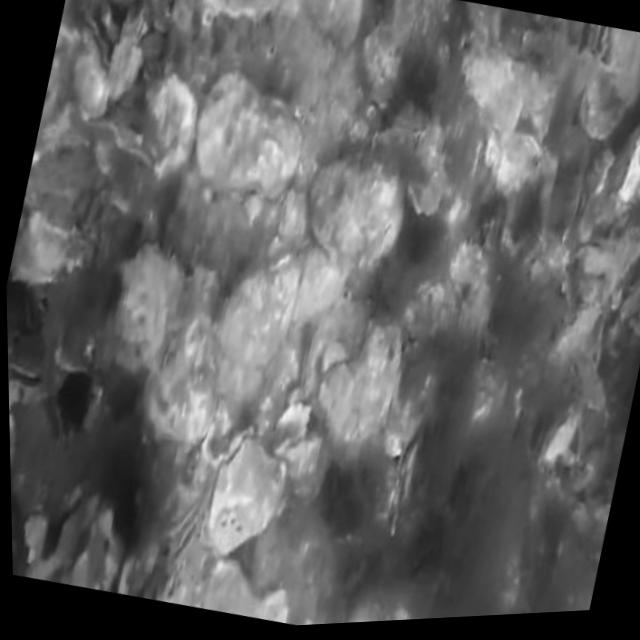Oyster-Closed: (196, 74, 303, 202), (205, 433, 284, 554), (279, 431, 321, 501), (546, 177, 586, 242), (71, 53, 107, 119), (390, 441, 415, 536), (540, 405, 578, 465), (169, 509, 202, 571), (80, 14, 111, 76), (571, 239, 617, 279), (405, 171, 440, 215), (390, 98, 426, 138), (619, 277, 640, 318), (51, 401, 64, 458), (124, 12, 147, 40), (571, 503, 591, 535)
Oyster-Indeterminate: (308, 152, 404, 264), (211, 249, 300, 368), (112, 245, 186, 370), (146, 317, 218, 441), (301, 297, 366, 422), (26, 144, 111, 233), (460, 44, 529, 137), (7, 211, 94, 284), (143, 74, 197, 180), (197, 560, 287, 623), (319, 364, 392, 438), (487, 135, 541, 198), (118, 529, 160, 597), (578, 77, 626, 136), (306, 0, 362, 45), (609, 27, 640, 106), (363, 322, 400, 383), (201, 0, 298, 19), (581, 148, 614, 199), (447, 244, 481, 284)
Oyster-Open: (8, 357, 43, 391), (101, 0, 124, 43), (592, 24, 610, 52)
